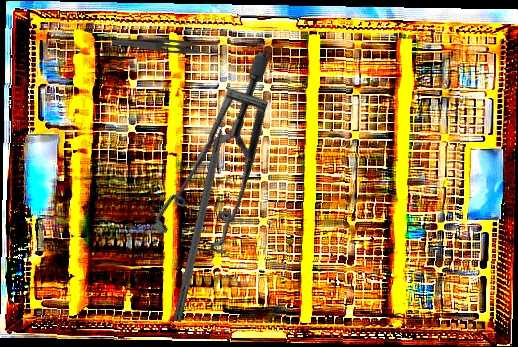Dressing Forceps: (112, 39, 223, 57)
Hook Surgical: (173, 100, 235, 323)
Speculum: (104, 49, 347, 280)
